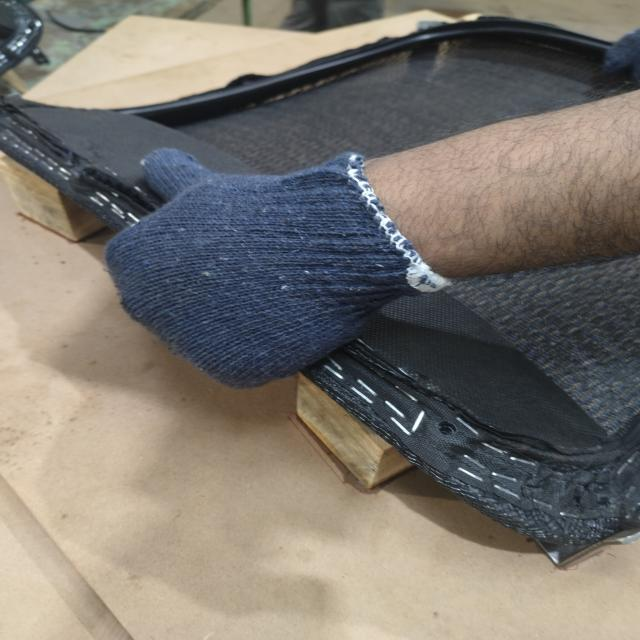Gloves-Detection: (112, 142, 399, 396)
